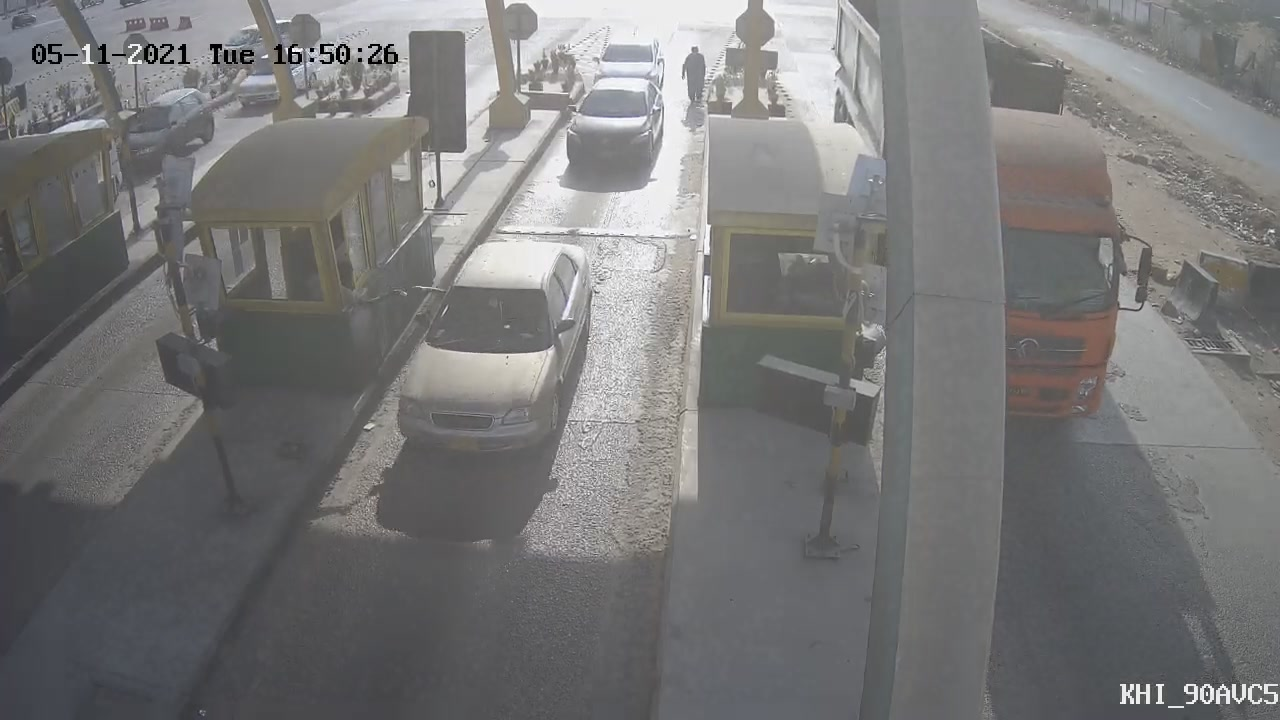F1: (374, 225, 618, 468), (551, 64, 673, 191)
